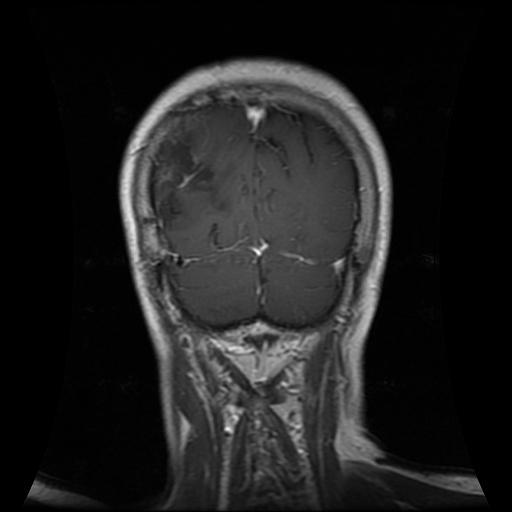glioma: (155, 114, 217, 223)
